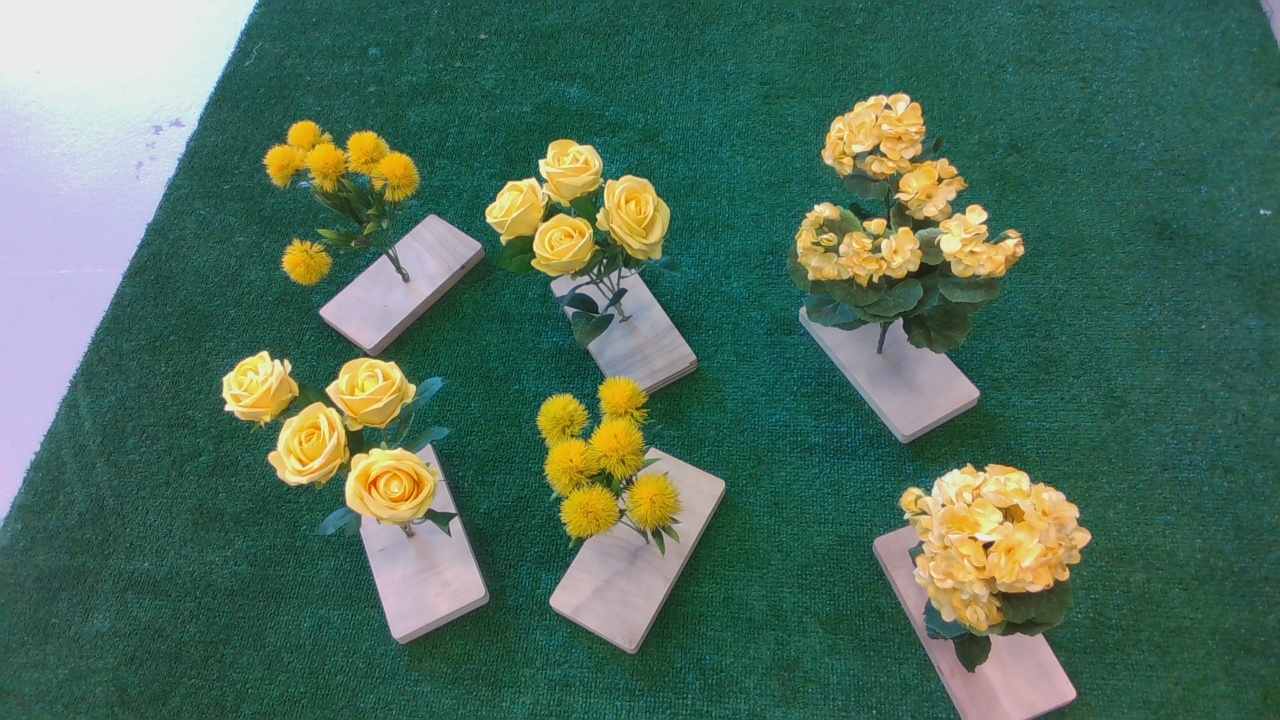dandelion: (520, 379, 691, 559), (253, 123, 431, 293)
geranium: (796, 78, 1035, 361), (873, 462, 1101, 663)
rose: (219, 344, 468, 542), (486, 137, 684, 292)
